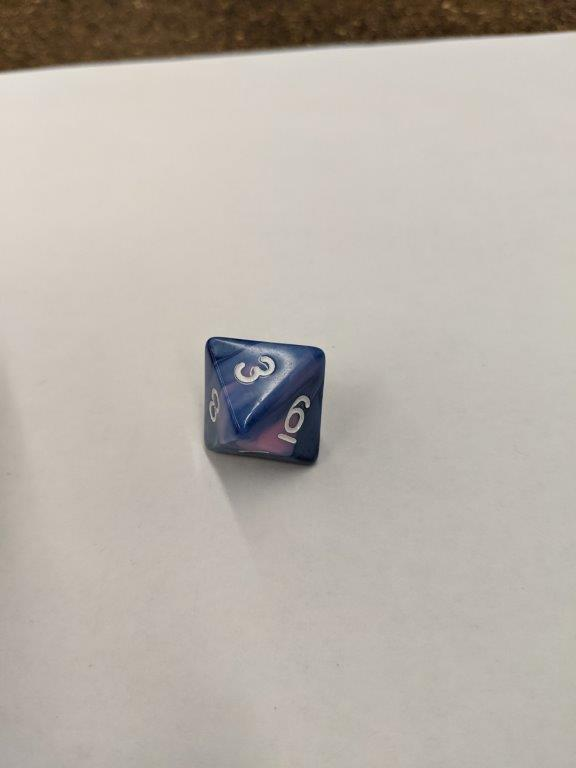d8-3: (203, 335, 327, 474)
